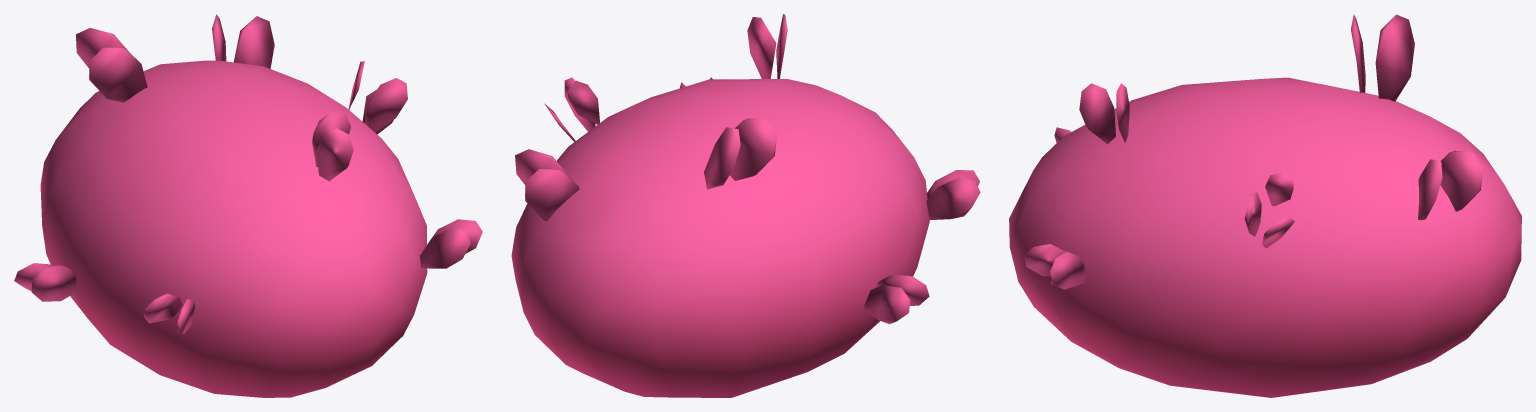
The model's file is Arbusto Rosa.fbx.
The picture shows the model from 3 angles, left to right: view 1: azimuth 30°, elevation 25°; view 2: azimuth 150°, elevation 25°; view 3: azimuth 270°, elevation 25°; orthographic projection. The views are drawn at different scales.
Visible parts, largest first — view 1: Plane.009; view 2: Plane.009; view 3: Plane.009.
Part boxes in pixels (<box>): Plane.009: <box>14,14,482,397</box>; Plane.009: <box>511,14,980,397</box>; Plane.009: <box>1009,14,1521,397</box>.
Size of the model in its own units: 242 by 189 by 274.
Materials: 2 (2 with a texture image).
